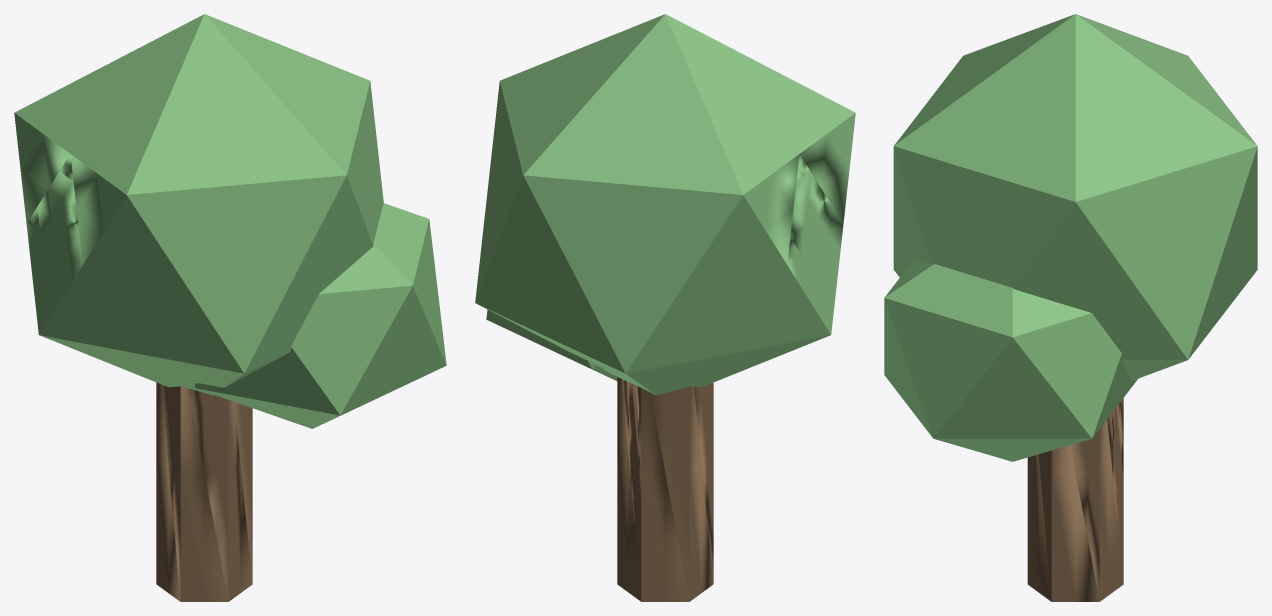
Rendered from oak.glb.
3 renders of one model, left to right at view 1: azimuth 30°, elevation 25°; view 2: azimuth 150°, elevation 25°; view 3: azimuth 270°, elevation 25°, orthographic.
Visible parts, largest first — view 1: OakTrunk; view 2: OakTrunk; view 3: OakTrunk.
Boxes of the visible parts, x1=… form: OakTrunk: x1=14, y1=14, x2=446, y2=601; OakTrunk: x1=475, y1=14, x2=855, y2=601; OakTrunk: x1=884, y1=14, x2=1257, y2=601.
Bounding box in the file's own units: 1.12 × 1.7 × 1.01.
